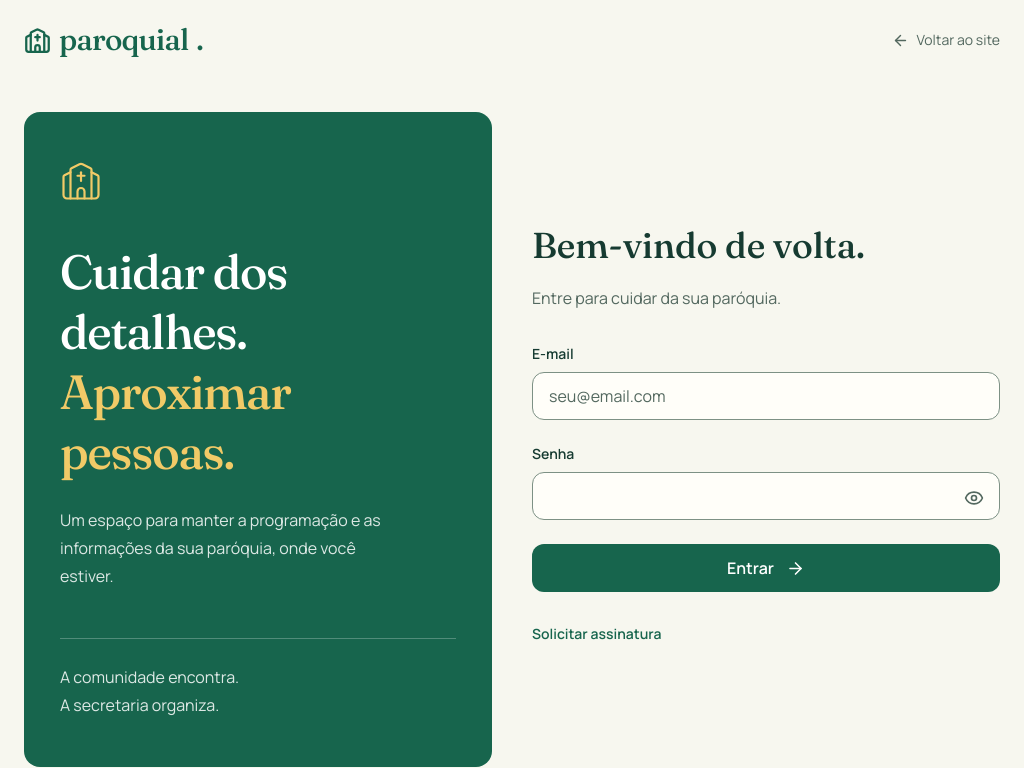
Test case: Login › mostra e oculta a senha sem perder o valor
Type " admin@example.com " into the field labelled "E-mail".
click(766, 396); type(" admin@example.com ")  # box left=532, top=372, right=1000, bottom=420
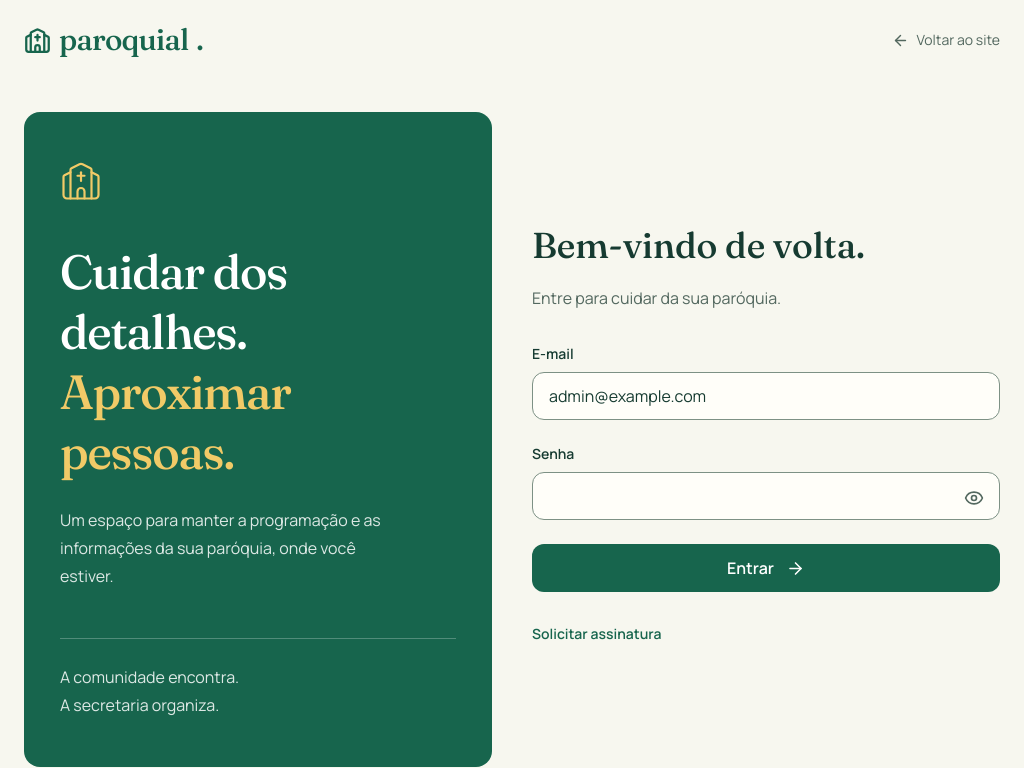
Type "minha-senha" into the password field labelled "Senha".
click(766, 496); type("minha-senha")  # box left=532, top=472, right=1000, bottom=520
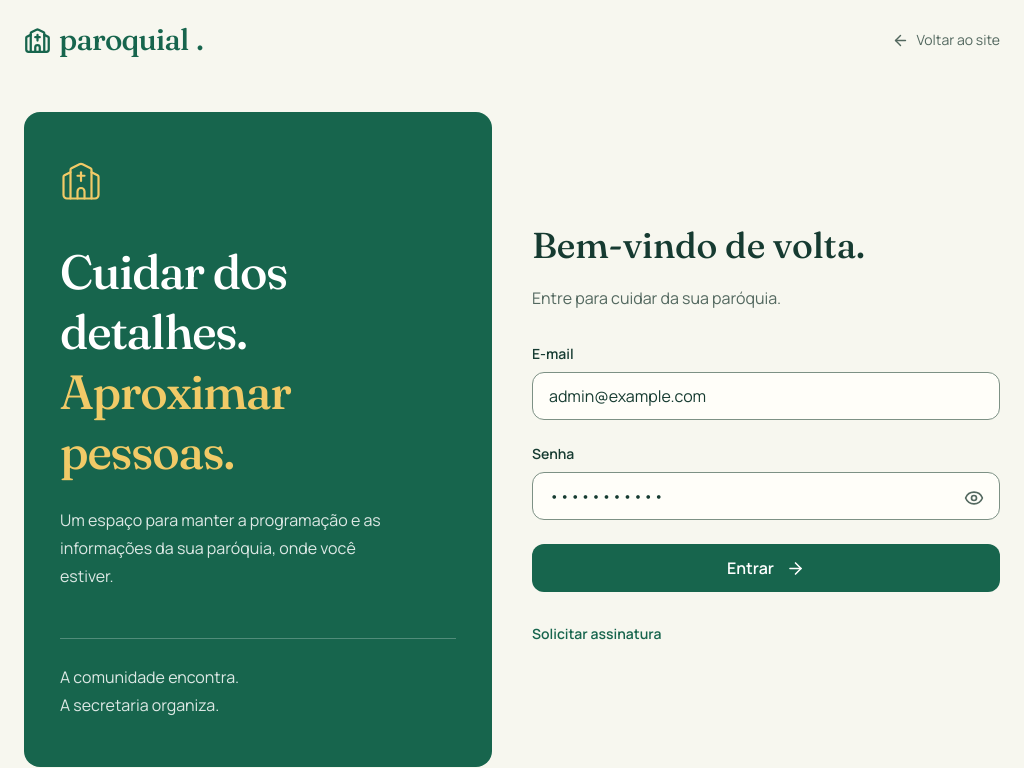
Click the button named "Mostrar senha".
click(974, 498)  # box left=952, top=476, right=996, bottom=520
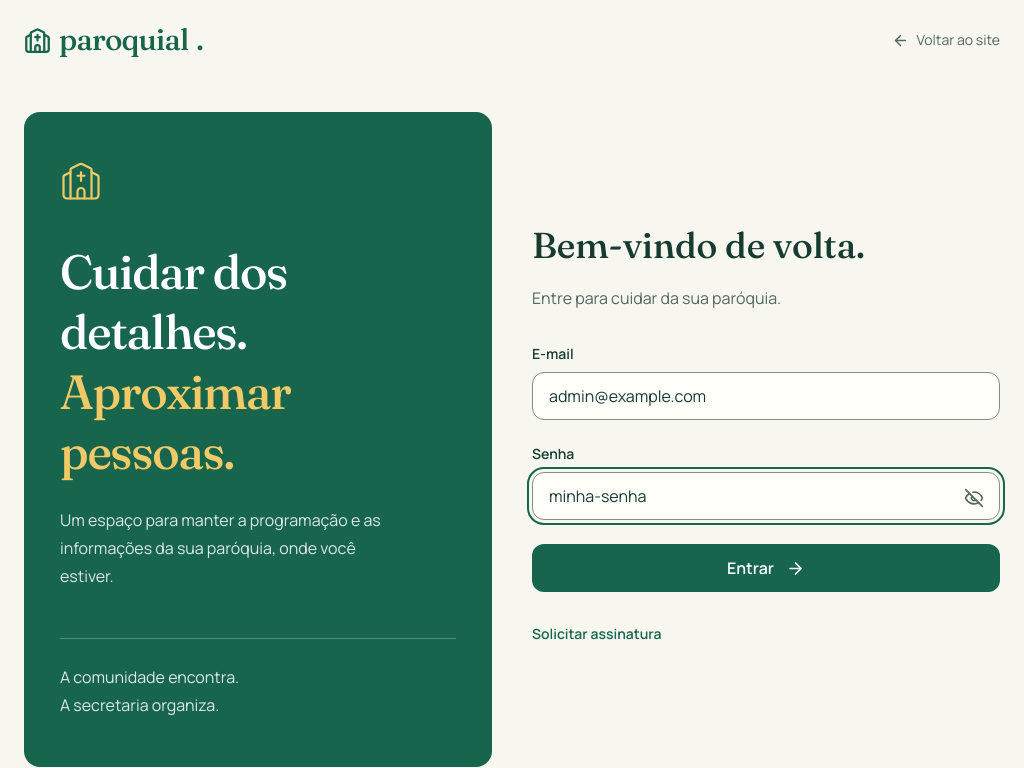
Expected: the field labelled "Senha" shows its text, left=532, top=472, right=1000, bottom=520
Click the button named "Ocultar senha".
click(974, 498)  # box left=952, top=476, right=996, bottom=520
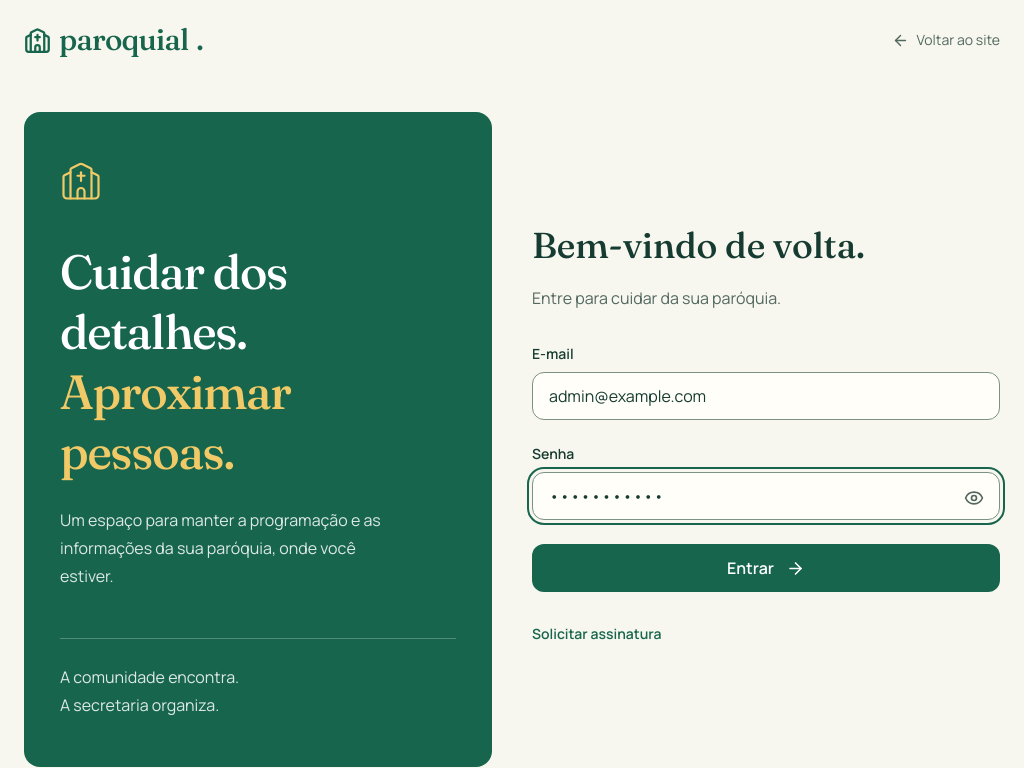
Expected: the password field labelled "Senha" hides its text, left=532, top=472, right=1000, bottom=520
